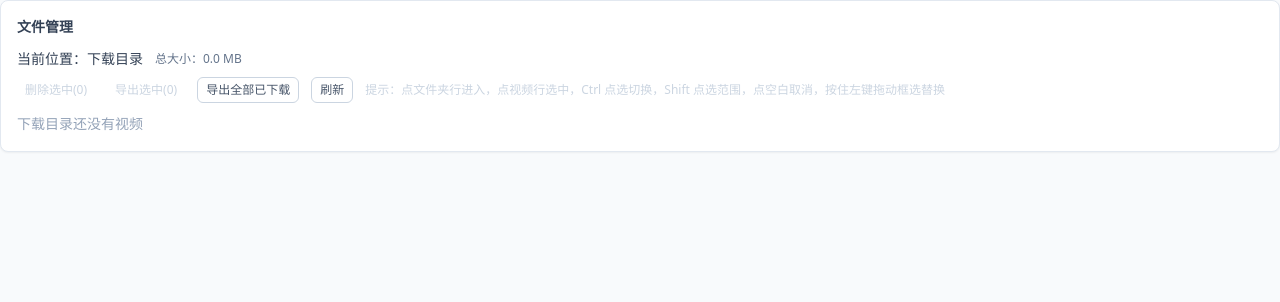
Test: FileManager（文件管理 tab） › 根目录：子文件夹与平铺视频同表可见（名称｜类型｜视频数｜大小），空状态提示
Expected: the text "下载目录还没有视频" is shown, [17,114,143,133]
What coordinates should you click on to do the following:
click the button "刷新"
I would click on:
 (332, 90)
Its box is [311,77,353,103].
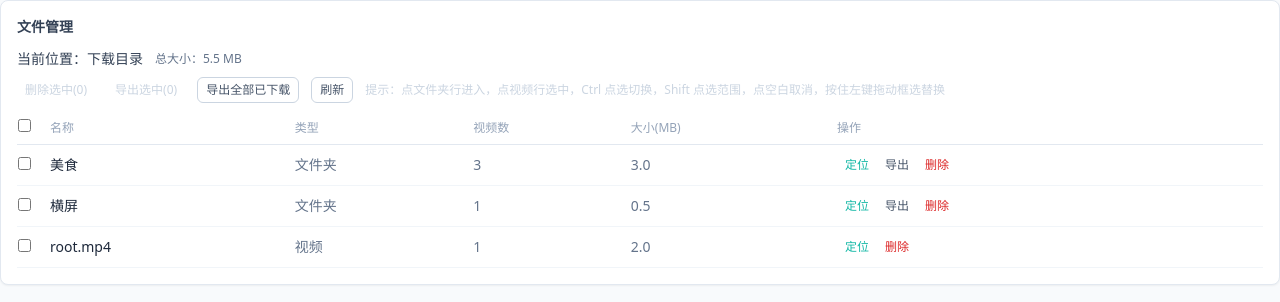
Now the text "美食" is shown, box [49,144,294,186]
Now the text "root.mp4" is shown, box [49,226,294,268]
Now the text "视频" is shown, box [294,226,472,268]
